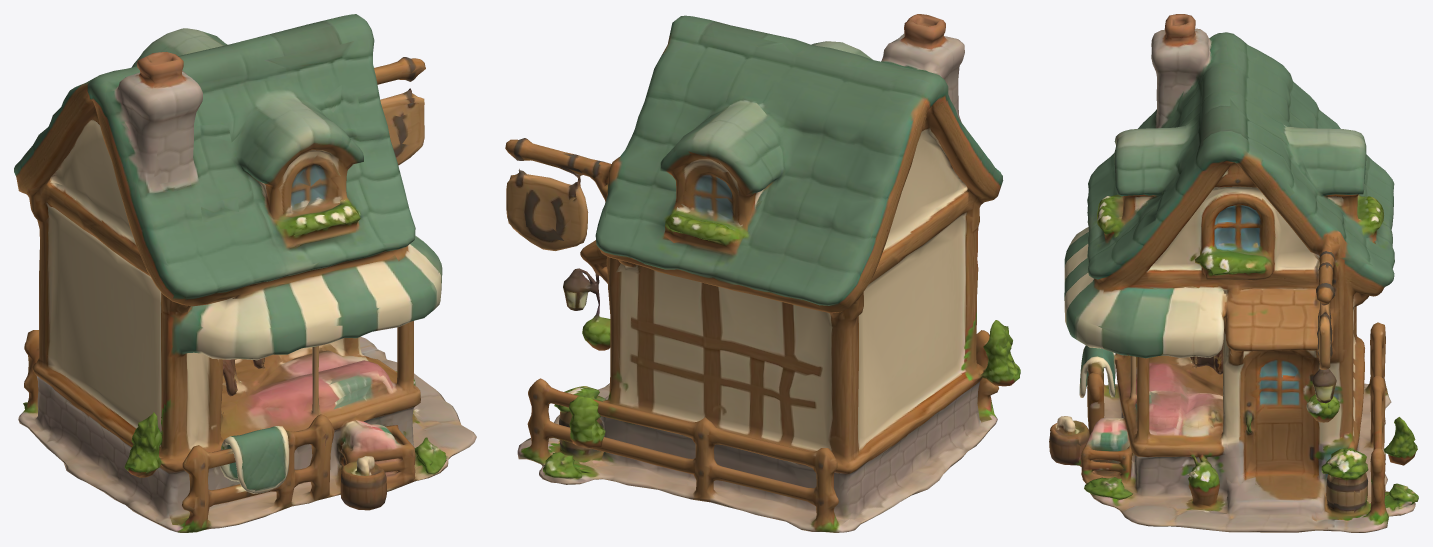
3 views of the same model, side by side, from view 1: azimuth 30°, elevation 25°; view 2: azimuth 150°, elevation 25°; view 3: azimuth 270°, elevation 25° (orthographic). The views are drawn at different scales.
Visible parts, largest first — view 1: tripo_node_cf848f74-0e51-4fd1-9187-72296fc24bca; view 2: tripo_node_cf848f74-0e51-4fd1-9187-72296fc24bca; view 3: tripo_node_cf848f74-0e51-4fd1-9187-72296fc24bca.
Boxes of the visible parts, x1=… form: tripo_node_cf848f74-0e51-4fd1-9187-72296fc24bca: x1=14, y1=14, x2=476, y2=532; tripo_node_cf848f74-0e51-4fd1-9187-72296fc24bca: x1=505, y1=14, x2=1020, y2=532; tripo_node_cf848f74-0e51-4fd1-9187-72296fc24bca: x1=1049, y1=14, x2=1418, y2=532.
Bounding box in the file's own units: 4.14 × 4.2 × 3.69.
Materials: 1 (1 with a texture image).
